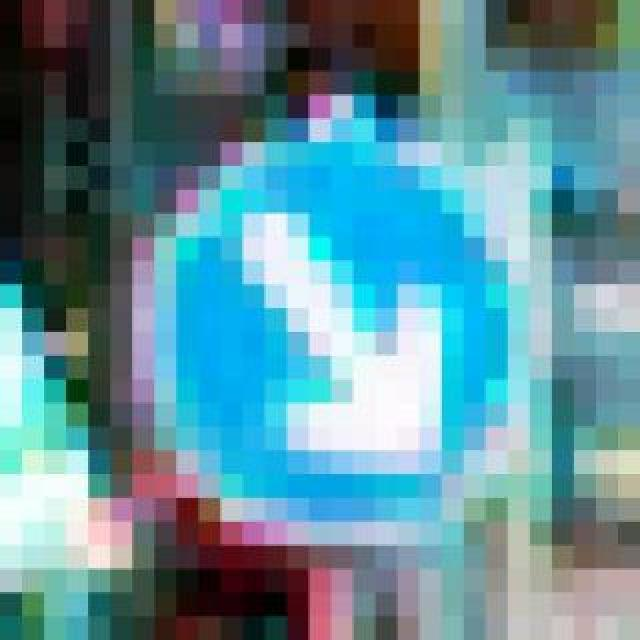keep right: (110, 96, 530, 522)
